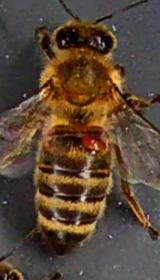varroa_mite: (78, 134, 108, 154)
